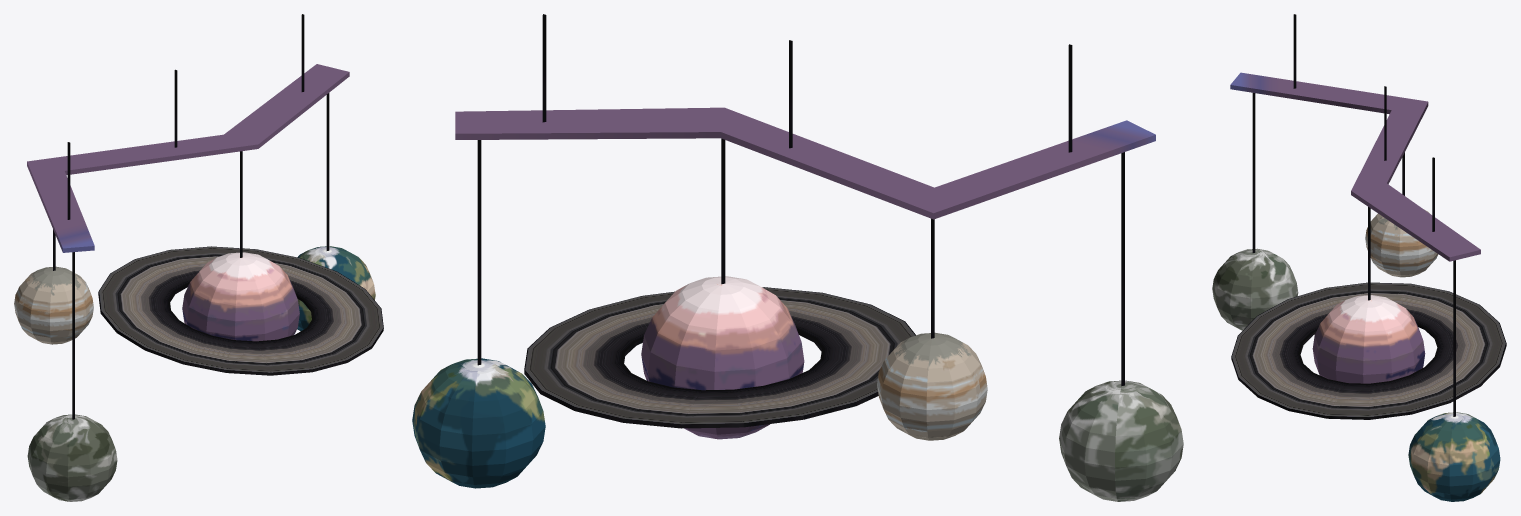
Rendered from PlanetHanger.fbx.
3 views of the same model, side by side, from view 1: azimuth 30°, elevation 25°; view 2: azimuth 150°, elevation 25°; view 3: azimuth 270°, elevation 25° (orthographic). The views are drawn at different scales.
Visible parts, largest first — view 1: Planet_1_Ring, Hanger, Planet_1, Planet_4, Planet_3, Strings, Planet_2; view 2: Planet_1_Ring, Hanger, Planet_1, Planet_2, Planet_4, Planet_3, Strings; view 3: Planet_1_Ring, Hanger, Planet_1, Planet_2, Planet_4, Planet_3, Strings.
Boxes of the visible parts, x1=… form: Planet_1_Ring: x1=98, y1=246, x2=383, y2=375; Hanger: x1=27, y1=64, x2=349, y2=252; Planet_1: x1=182, y1=252, x2=299, y2=341; Planet_4: x1=27, y1=414, x2=117, y2=501; Planet_3: x1=14, y1=266, x2=93, y2=344; Strings: x1=53, y1=14, x2=329, y2=419; Planet_2: x1=297, y1=246, x2=375, y2=331; Planet_1_Ring: x1=524, y1=287, x2=915, y2=428; Hanger: x1=455, y1=107, x2=1155, y2=219; Planet_1: x1=641, y1=276, x2=804, y2=439; Planet_2: x1=412, y1=358, x2=545, y2=488; Planet_4: x1=1059, y1=380, x2=1183, y2=501; Planet_3: x1=877, y1=332, x2=987, y2=440; Strings: x1=477, y1=14, x2=1124, y2=386; Planet_1_Ring: x1=1231, y1=282, x2=1506, y2=419; Hanger: x1=1230, y1=72, x2=1480, y2=261; Planet_1: x1=1312, y1=295, x2=1425, y2=383; Planet_2: x1=1408, y1=412, x2=1500, y2=501; Planet_4: x1=1212, y1=248, x2=1298, y2=330; Planet_3: x1=1365, y1=209, x2=1438, y2=277; Strings: x1=1252, y1=14, x2=1455, y2=416.
Size of the model in its own units: 17.14 by 12.57 by 10.38.
1 material, 1 textured.
